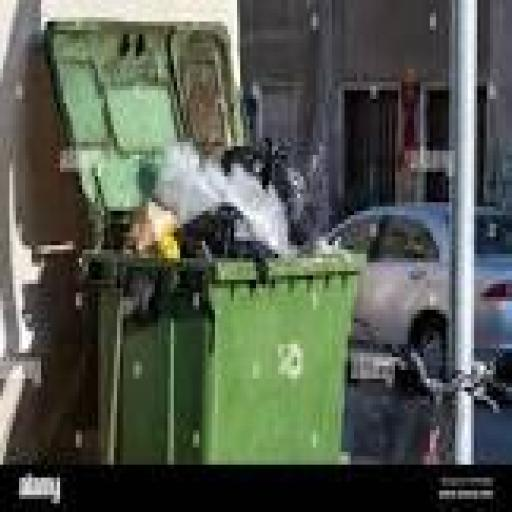poubelle_pleine: (38, 32, 394, 498)
